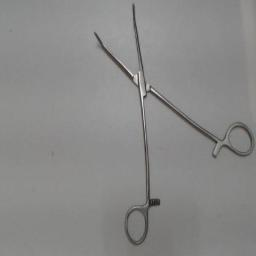Lahey Forceps: (90, 2, 256, 248)
